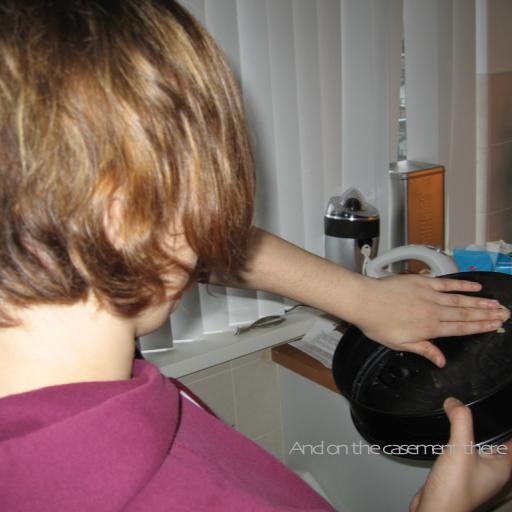Skia: (289, 440, 505, 455)
